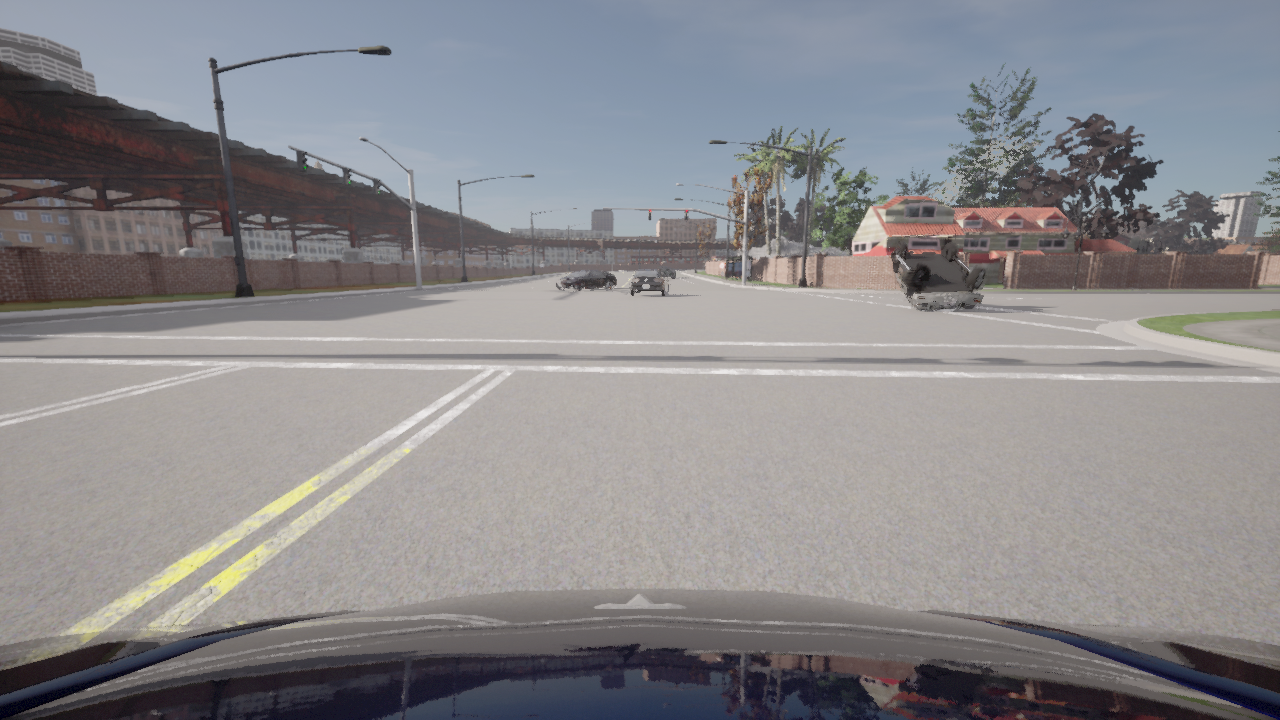cyclist: (0, 588, 1279, 719), (891, 242, 985, 312), (554, 269, 615, 291), (629, 268, 669, 296), (661, 266, 674, 278), (656, 266, 662, 269), (663, 265, 667, 266), (636, 269, 638, 271)
